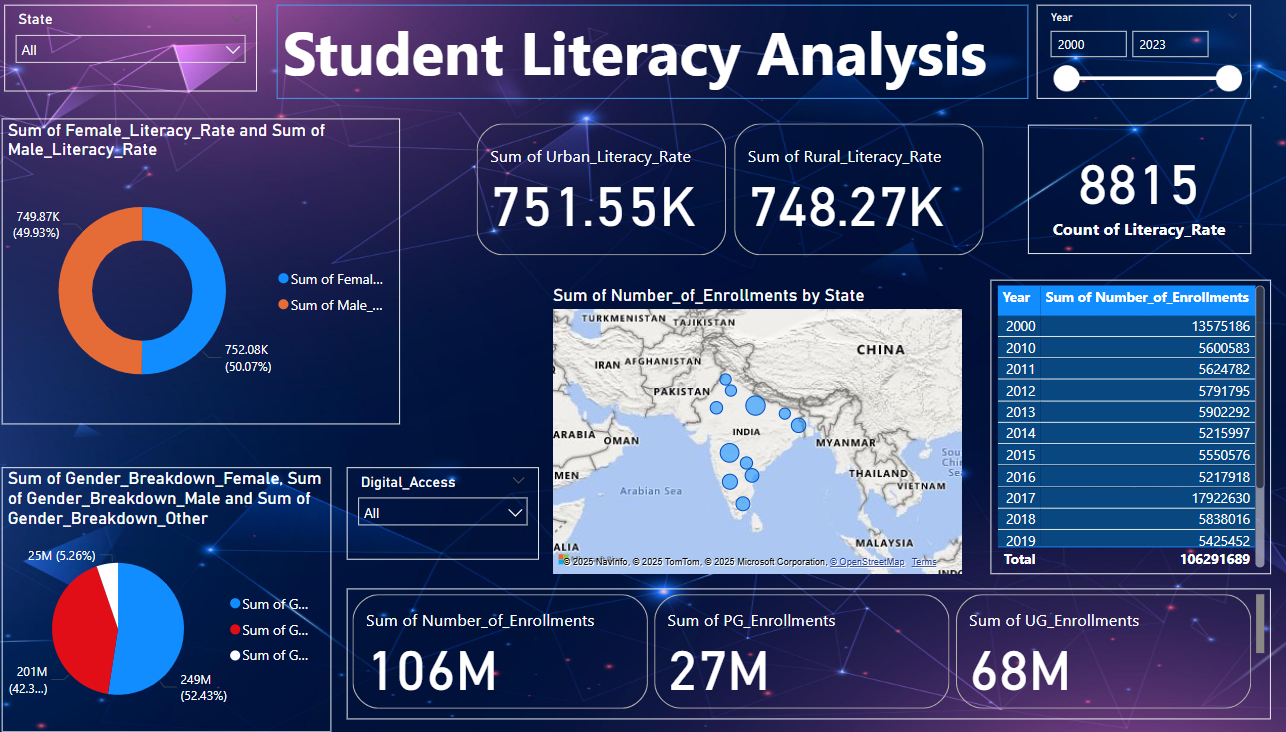

Layout of this report page (visuals, bound fields, positions):
{"tool":"powerbi","page":{"name":"Page 1","canvas":[1280,720],"ordinal":0},"visuals":[{"type":"textbox","box":[286.8,8.2,735.5,91.9],"z":0},{"type":"cardVisual","fields":{"Data":["Sum(Cleaned State-wise Data.Number_of_Enrollments)","Sum(Cleaned State-wise Data.PG_Enrollments)","Sum(Cleaned State-wise Data.UG_Enrollments)","Sum(Cleaned State-wise Data.Vocational_Enrollments)"]},"box":[355.4,579.1,904.3,127.6],"z":1000},{"type":"slicer","fields":{"Values":["Cleaned State-wise Data.State"]},"box":[20.6,8.2,247,85.1],"z":2000},{"type":"pieChart","fields":{"Y":["Sum(Cleaned State-wise Data.Gender_Breakdown_Female)","Sum(Cleaned State-wise Data.Gender_Breakdown_Male)","Sum(Cleaned State-wise Data.Gender_Breakdown_Other)"]},"box":[17.8,461.1,322.5,259.3],"z":3000},{"type":"tableEx","fields":{"Values":["Cleaned State-wise Data.Year","Sum(Cleaned State-wise Data.Number_of_Enrollments)"]},"box":[985.3,277.2,274.4,288.2],"z":4000},{"type":"map","fields":{"Category":["Cleaned State-wise Data.State"],"Size":["Sum(Cleaned State-wise Data.Number_of_Enrollments)"]},"box":[553,282.7,410.3,288.2],"z":5000},{"type":"card","fields":{"Values":["CountNonNull(Cleaned State-wise Data.Literacy_Rate)"]},"box":[1022.3,126.2,218.2,126.2],"z":6000},{"type":"slicer","fields":{"Values":["Cleaned State-wise Data.Year"]},"box":[1030.5,8.2,209.9,91.9],"z":7000},{"type":"cardVisual","fields":{"Data":["Sum(Cleaned State-wise Data.Urban_Literacy_Rate)","Sum(Cleaned State-wise Data.Rural_Literacy_Rate)"]},"box":[477.5,119.4,507.7,140],"z":8000},{"type":"slicer","fields":{"Values":["Cleaned State-wise Data.Digital_Access"]},"box":[355.4,461.1,188,90.6],"z":9000},{"type":"donutChart","fields":{"Y":["Sum(Cleaned State-wise Data.Female_Literacy_Rate)","Sum(Cleaned State-wise Data.Male_Literacy_Rate)"]},"box":[17.8,119.4,389.7,299.1],"z":10000}]}

Visuals, with their boxes in screenshot pixels (x1, y1, x2, y2), scaled from the page's 1280x720 canvas onto the 1286x732 screenshot:
textbox: Rect(288, 8, 1027, 102)
cardVisual - Sum(Cleaned State-wise Data.Number_of_Enrollments) x Sum(Cleaned State-wise Data.PG_Enrollments): Rect(357, 589, 1266, 718)
slicer - Cleaned State-wise Data.State: Rect(21, 8, 269, 95)
pieChart - Sum(Cleaned State-wise Data.Gender_Breakdown_Female) x Sum(Cleaned State-wise Data.Gender_Breakdown_Male): Rect(18, 469, 342, 731)
tableEx - Cleaned State-wise Data.Year x Sum(Cleaned State-wise Data.Number_of_Enrollments): Rect(990, 282, 1266, 575)
map - Cleaned State-wise Data.State x Sum(Cleaned State-wise Data.Number_of_Enrollments): Rect(556, 287, 968, 580)
card - CountNonNull(Cleaned State-wise Data.Literacy_Rate): Rect(1027, 128, 1246, 257)
slicer - Cleaned State-wise Data.Year: Rect(1035, 8, 1246, 102)
cardVisual - Sum(Cleaned State-wise Data.Urban_Literacy_Rate) x Sum(Cleaned State-wise Data.Rural_Literacy_Rate): Rect(480, 121, 990, 264)
slicer - Cleaned State-wise Data.Digital_Access: Rect(357, 469, 546, 561)
donutChart - Sum(Cleaned State-wise Data.Female_Literacy_Rate) x Sum(Cleaned State-wise Data.Male_Literacy_Rate): Rect(18, 121, 409, 425)
